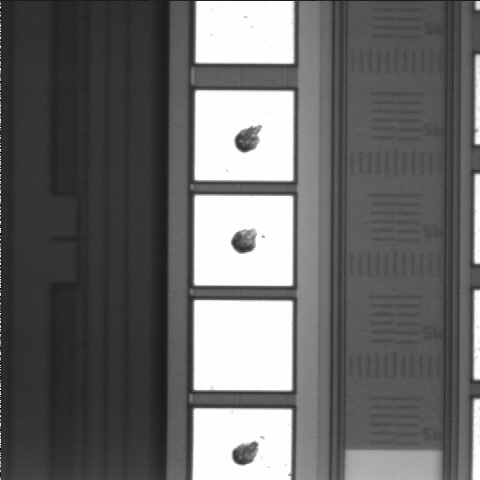pad: (195, 90, 294, 181), (194, 195, 293, 286), (194, 300, 292, 390)
